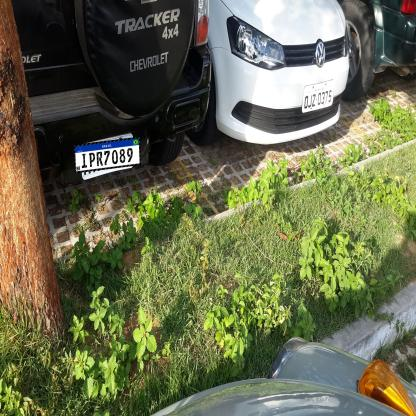PlacaM: (74, 137, 141, 173)
